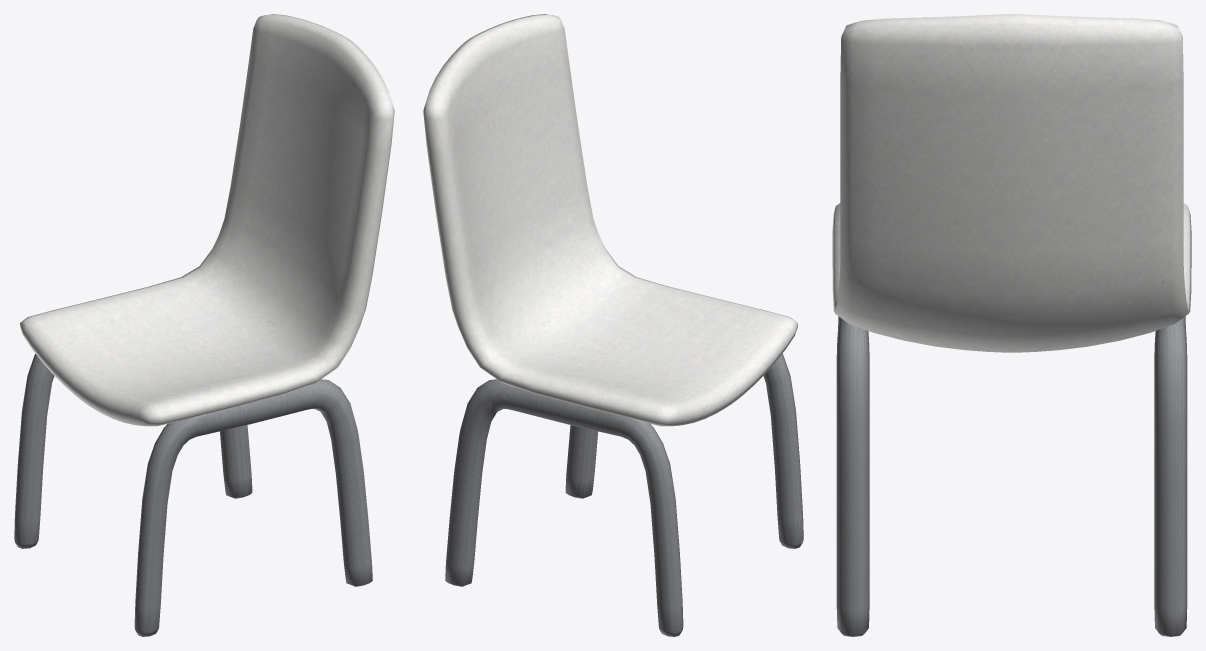
File: Chair (1).fbx
The picture shows the model from 3 angles, left to right: view 1: azimuth 30°, elevation 25°; view 2: azimuth 150°, elevation 25°; view 3: azimuth 270°, elevation 25°; orthographic projection. The views are drawn at different scales.
Visible parts, largest first — view 1: Cube, Cube.001; view 2: Cube, Cube.001; view 3: Cube, Cube.001.
Part boxes in pixels (left/top/right/bottom): Cube: left=20, top=14, right=394, bottom=426; Cube.001: left=14, top=354, right=372, bottom=636; Cube: left=423, top=14, right=797, bottom=426; Cube.001: left=445, top=354, right=803, bottom=636; Cube: left=832, top=14, right=1191, bottom=352; Cube.001: left=836, top=316, right=1187, bottom=636.
Bounding box in the file's own units: 214 × 359 × 181.
Materials: 2 (2 with a texture image).
